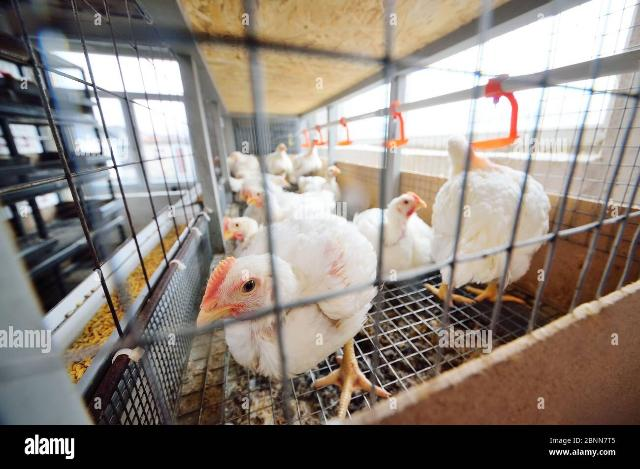Chicken: (196, 215, 394, 417), (426, 138, 550, 314), (352, 193, 440, 275), (244, 183, 336, 225), (296, 165, 344, 201), (218, 215, 260, 245), (226, 147, 264, 180), (294, 140, 324, 177), (264, 143, 295, 176)
